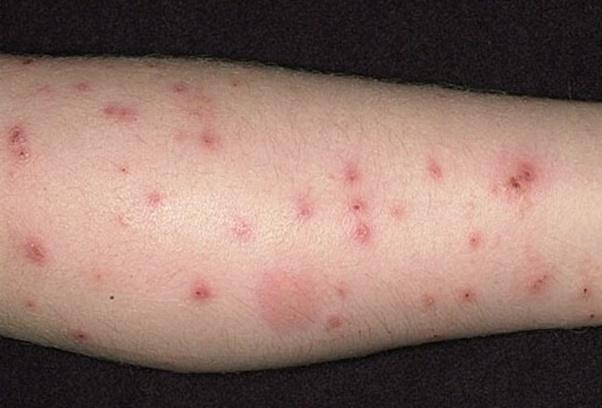Fleas: (336, 161, 373, 248), (494, 169, 544, 203), (518, 262, 555, 296), (23, 239, 54, 271), (7, 126, 30, 163), (295, 203, 320, 233), (13, 289, 43, 314), (186, 279, 213, 306), (228, 218, 257, 241), (103, 106, 137, 125), (169, 81, 196, 102), (197, 130, 222, 152), (575, 278, 594, 302), (420, 291, 441, 309), (116, 213, 139, 229), (458, 285, 477, 304), (469, 231, 485, 252), (145, 193, 164, 210), (70, 330, 92, 344), (390, 203, 406, 221), (428, 162, 442, 181), (323, 317, 346, 328)
